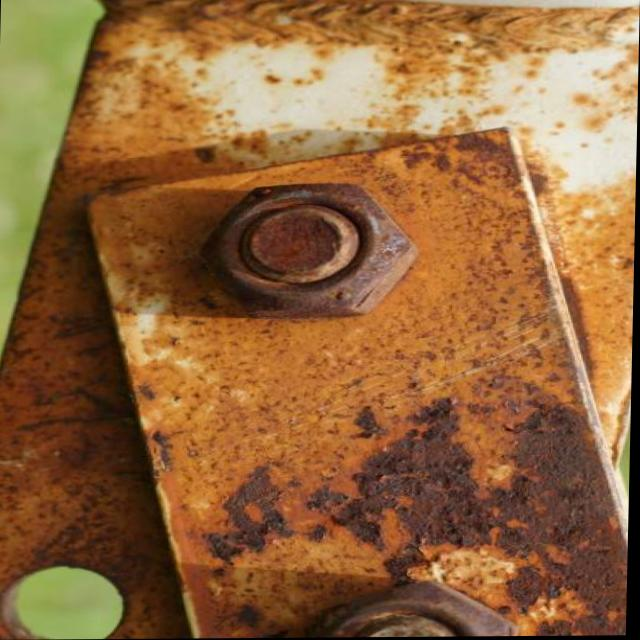Rusty bolt: (203, 187, 418, 324), (319, 583, 510, 639)
